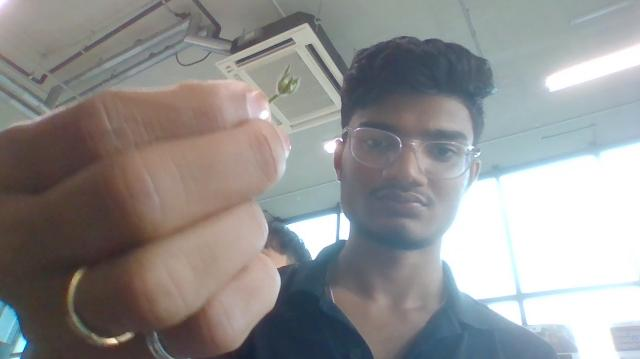Fruit Bud: (268, 64, 300, 105)
